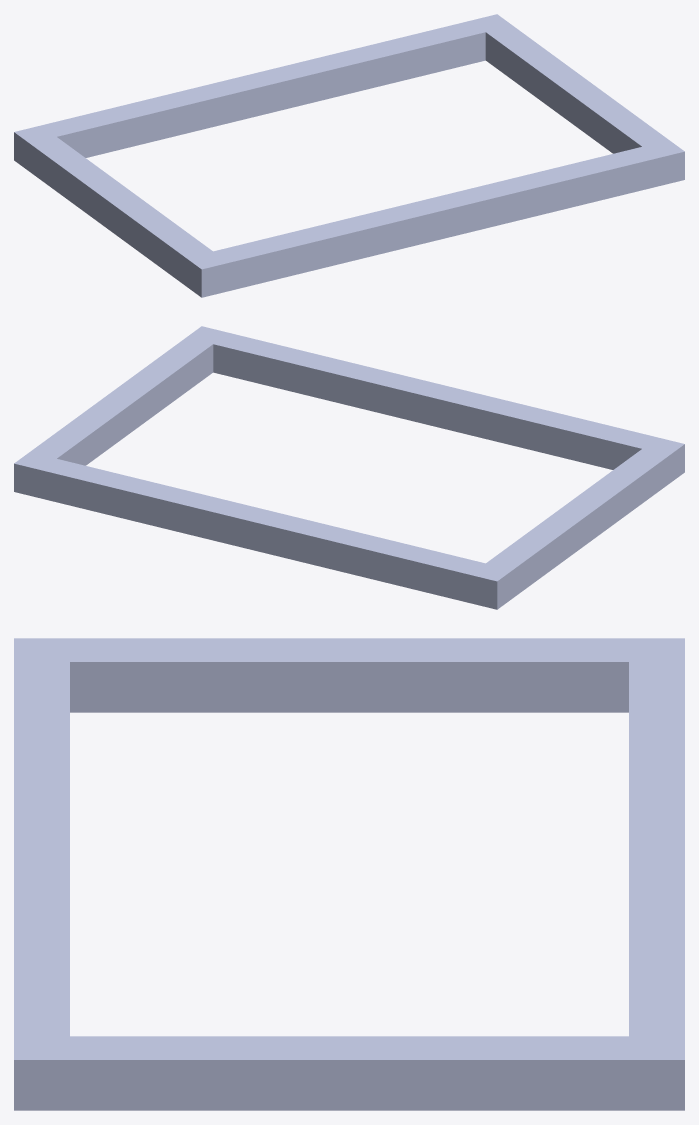
File: Rectangle_Frame.FBX
3 renders of one model, top to bottom at view 1: azimuth 30°, elevation 25°; view 2: azimuth 150°, elevation 25°; view 3: azimuth 270°, elevation 25°, orthographic. The views are drawn at different scales.
Parts seen in each view (by area): view 1: Cut-Extrude1; view 2: Cut-Extrude1; view 3: Cut-Extrude1.
Part boxes in pixels (x1,y1,x2,y2): Cut-Extrude1: (14, 14, 684, 297); Cut-Extrude1: (14, 326, 684, 609); Cut-Extrude1: (14, 638, 684, 1110).
Bounding box in the file's own units: 702 × 39.37 × 472.
